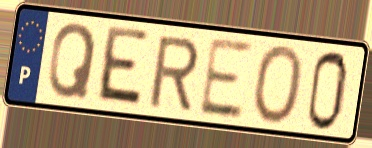0: (305, 48, 352, 133)
E: (92, 23, 152, 112), (195, 34, 254, 122)
O: (249, 43, 305, 128)
Q: (45, 20, 99, 102)
R: (146, 34, 202, 113)
